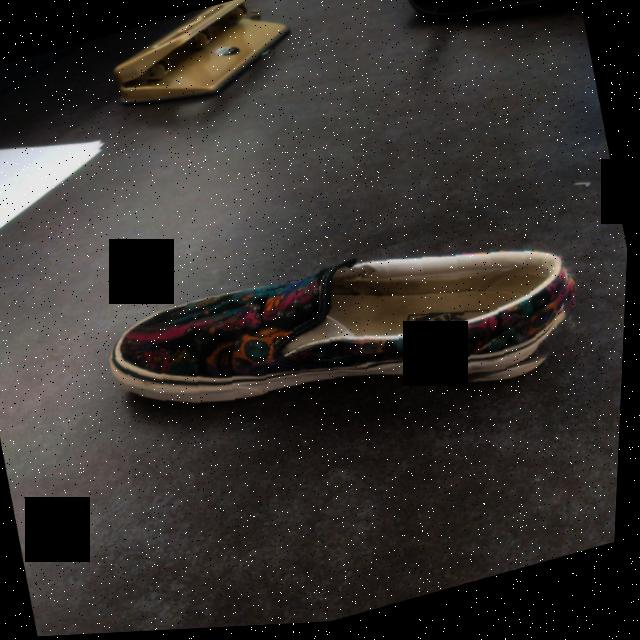shoe: (100, 204, 596, 489)
